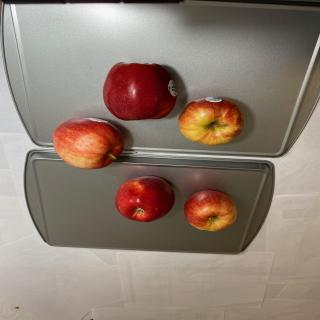Apple: (103, 61, 177, 120), (52, 117, 124, 170), (178, 96, 244, 146), (115, 175, 175, 222), (184, 190, 238, 232)
